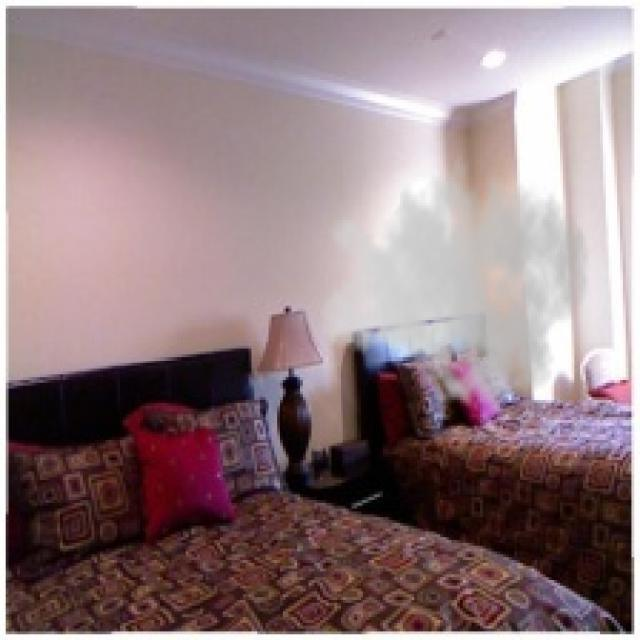Smoke: (317, 140, 592, 417)
